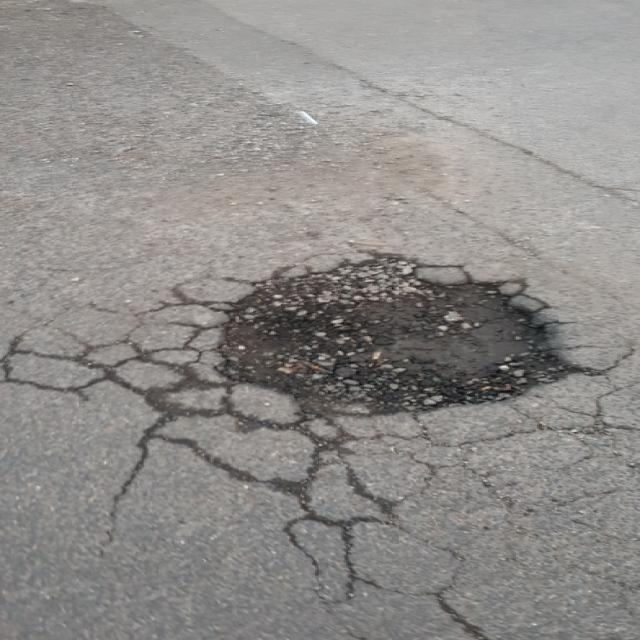Pothole: (202, 247, 594, 425)
